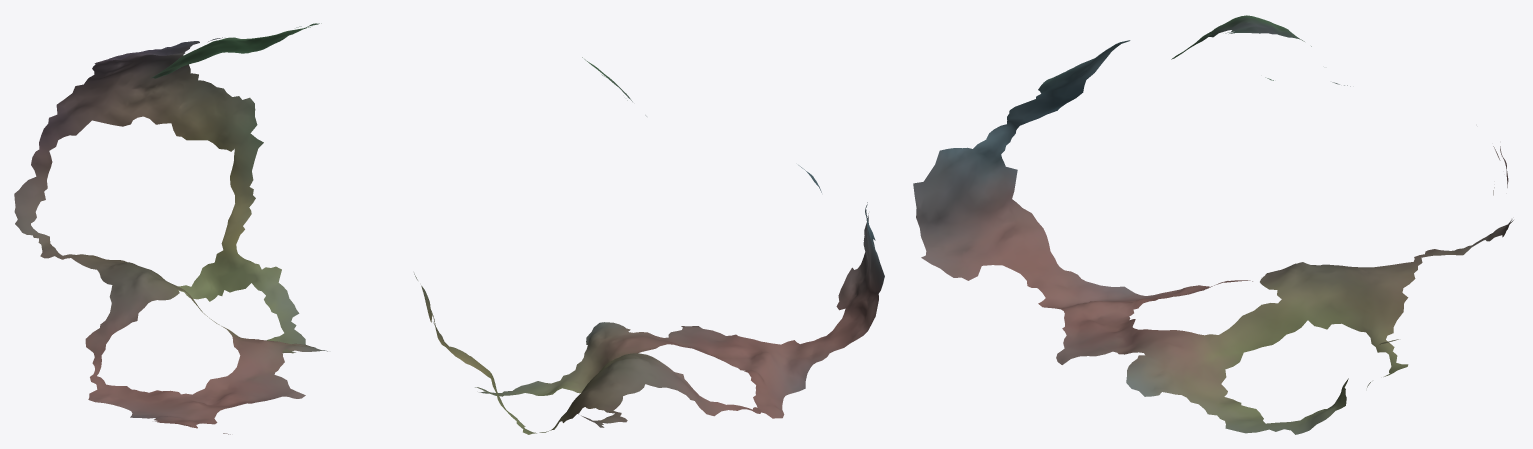
The model's file is LODS_Cloud_global_10.glb.
3 renders of one model, left to right at view 1: azimuth 30°, elevation 25°; view 2: azimuth 150°, elevation 25°; view 3: azimuth 270°, elevation 25°, orthographic. The views are drawn at different scales.
Visible parts, largest first — view 1: LOD0; view 2: LOD0; view 3: LOD0.
Part boxes in pixels (x1=…): LOD0: x1=14, y1=23, x2=327, y2=434; LOD0: x1=414, y1=57, x2=884, y2=434; LOD0: x1=913, y1=15, x2=1513, y2=434.
Size of what is drawn, in the model's own units: 0.3316 by 0.3458 by 0.4963.
